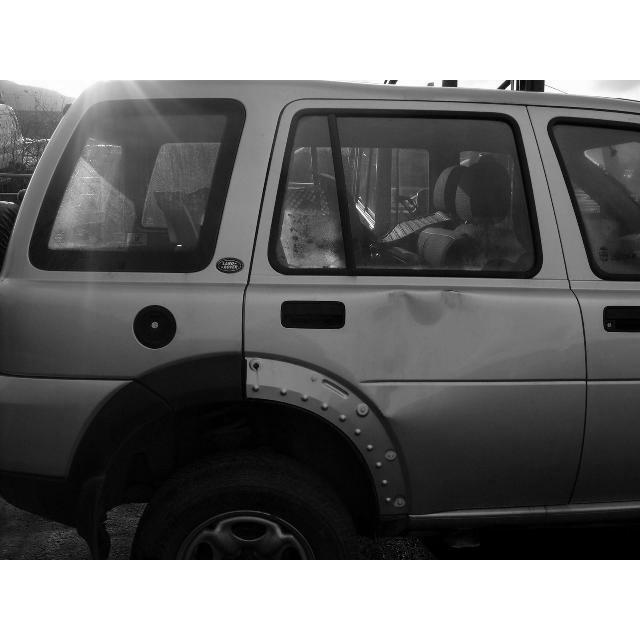doorouter-dent: (262, 263, 560, 520)
